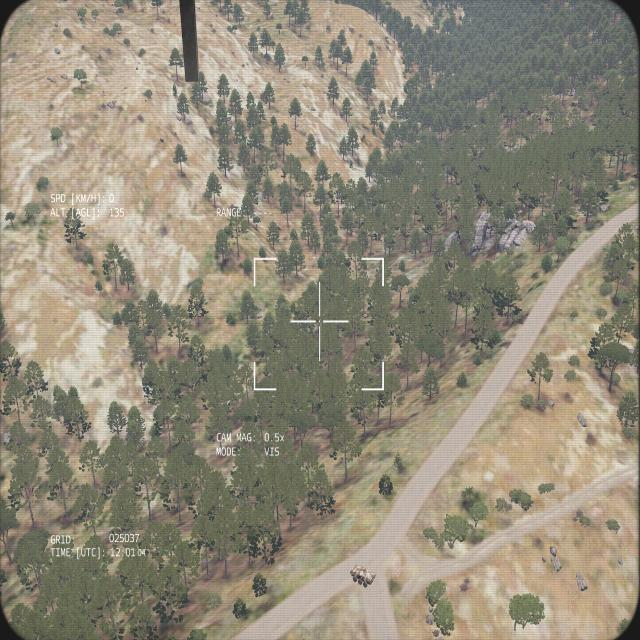apc: (349, 562, 376, 588)
